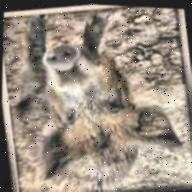boar: (0, 0, 189, 192)
